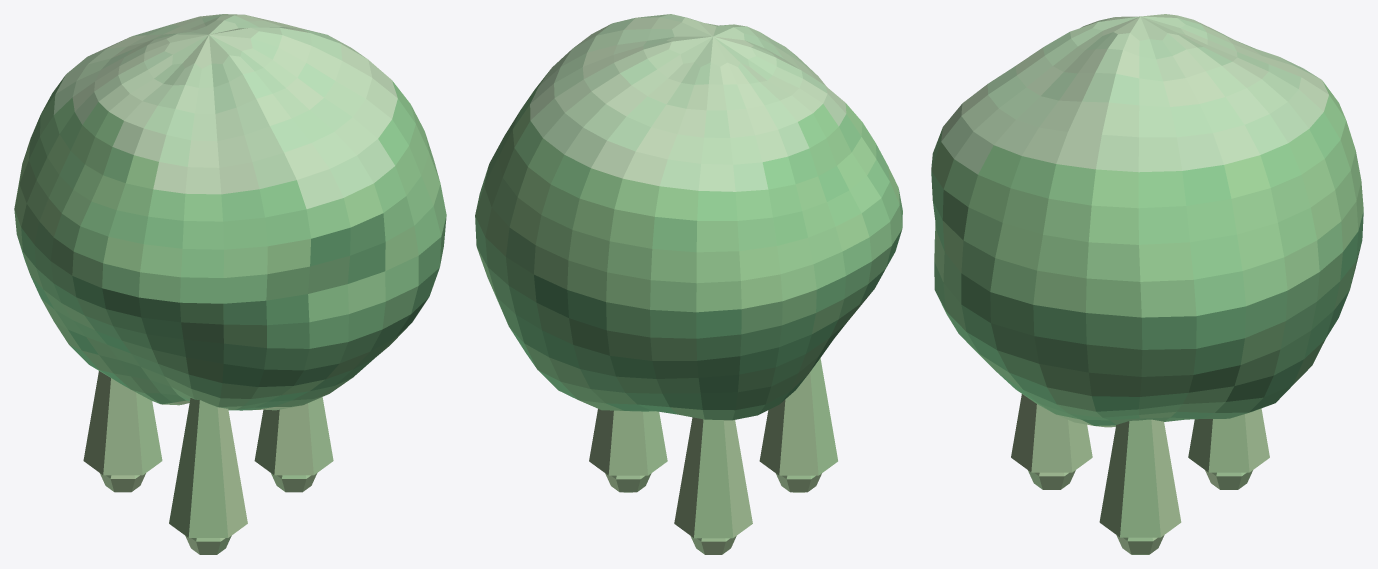
File: Ectoplasm.glb
3 views of the same model, side by side, from view 1: azimuth 30°, elevation 25°; view 2: azimuth 150°, elevation 25°; view 3: azimuth 270°, elevation 25° (orthographic). The views are drawn at different scales.
Visible parts, largest first — view 1: Ectoplasm; view 2: Ectoplasm; view 3: Ectoplasm.
Boxes of the visible parts, x1,y1,x2,y2 form: Ectoplasm: (14, 14, 446, 554); Ectoplasm: (475, 14, 902, 554); Ectoplasm: (931, 14, 1363, 554).
Bounding box in the file's own units: 0.432 × 0.5362 × 0.4227.
